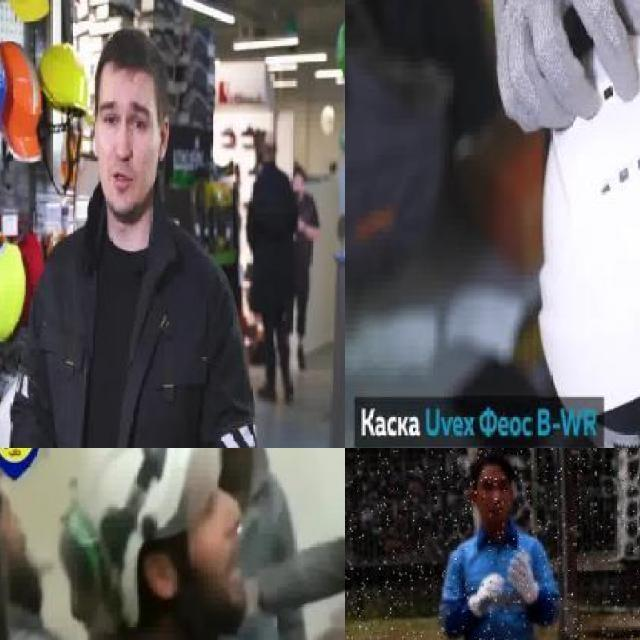apron: (491, 0, 640, 133), (464, 567, 512, 623), (505, 546, 541, 606)
